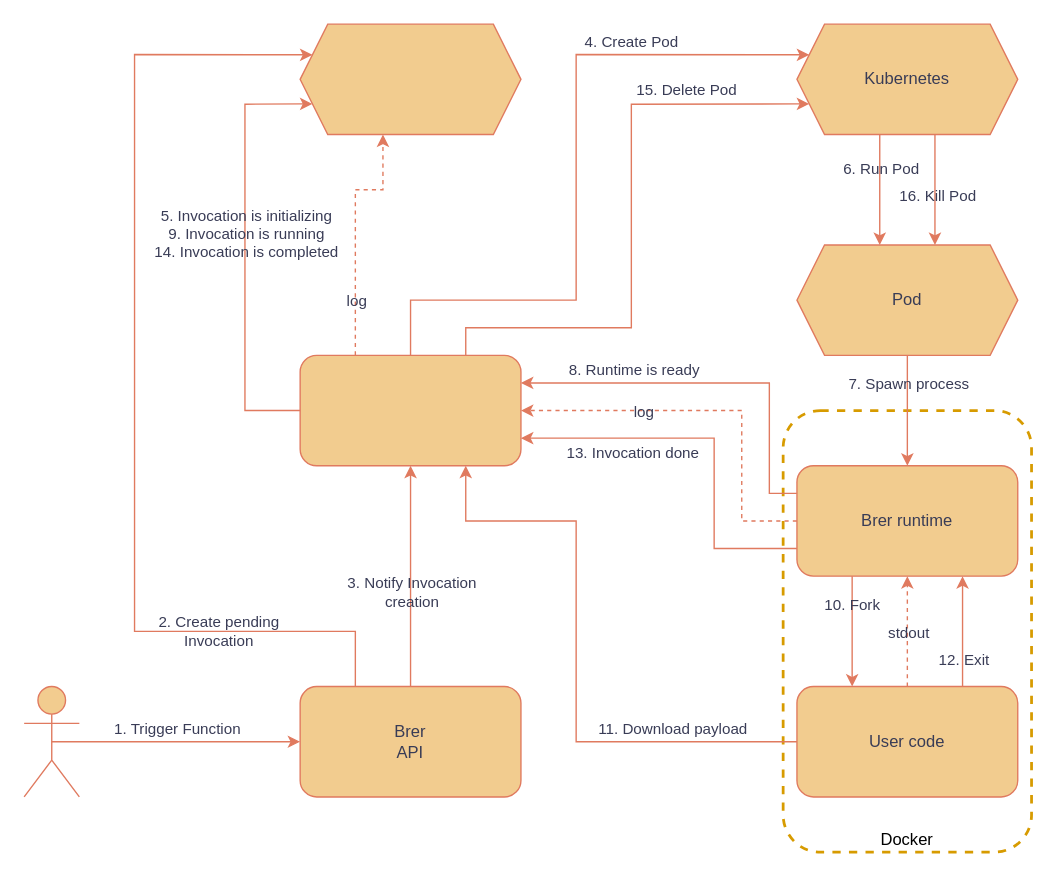
The diagram is 1057 pixels wide and 878 high, and some of its shapes have lost their labels. The centre of each missing label's shape, as x and y in pixels:
Actor: the point at 51,741
Brer Controller: the point at 410,410
CouchDB: the point at 410,79
